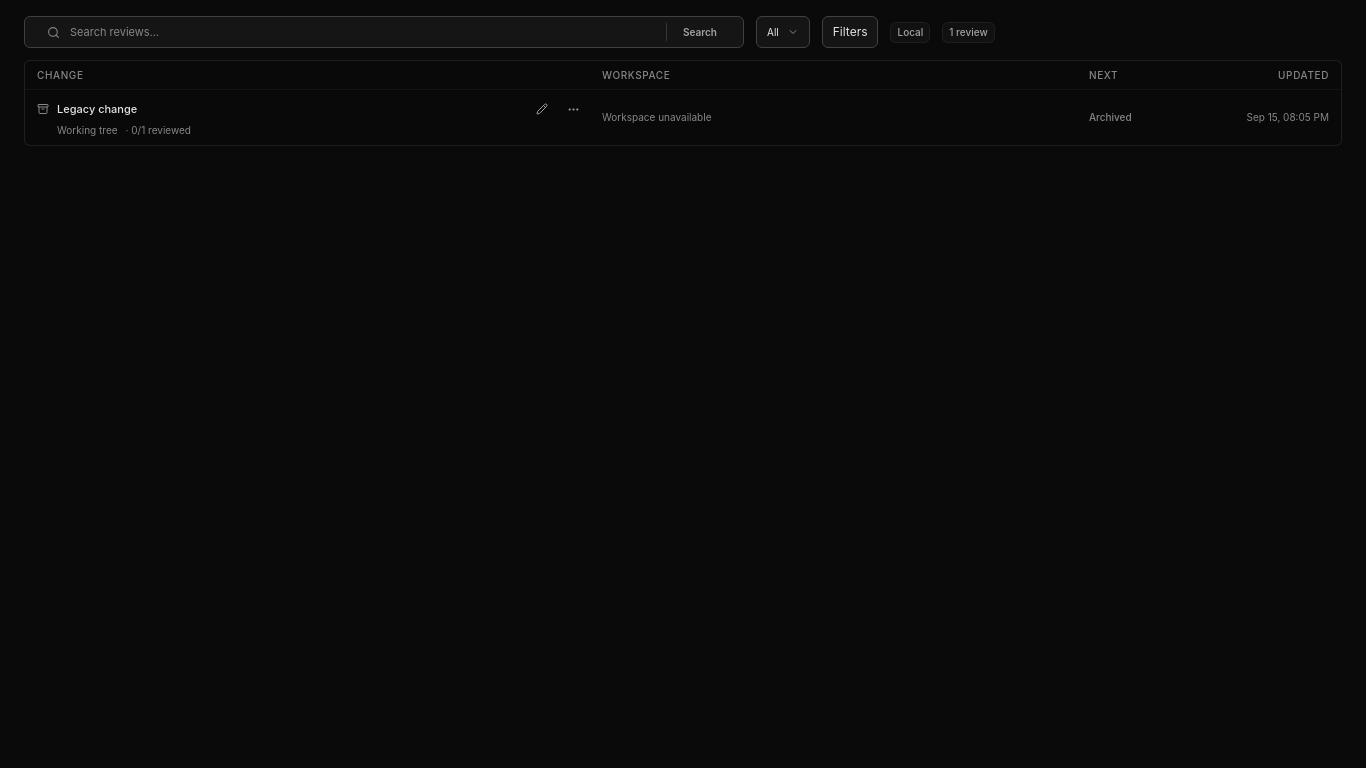
Test: ReviewDirectory › keeps an archived review and allows retry when deletion fails
The image size is (1366, 768).
Click the button named "More actions for Legacy change" at (574, 109), box [562, 97, 586, 121]
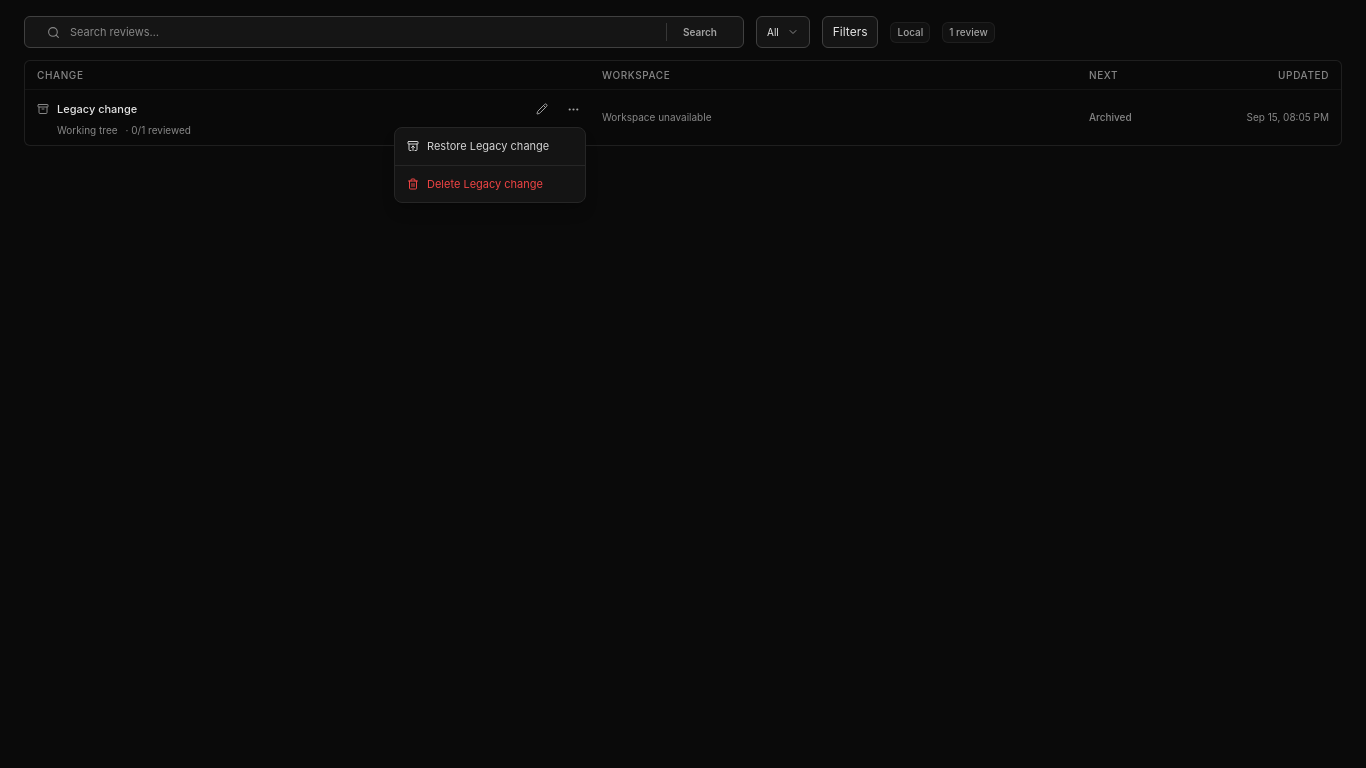
Click the menu item "Delete Legacy change" at (475, 184), box [407, 176, 543, 190]
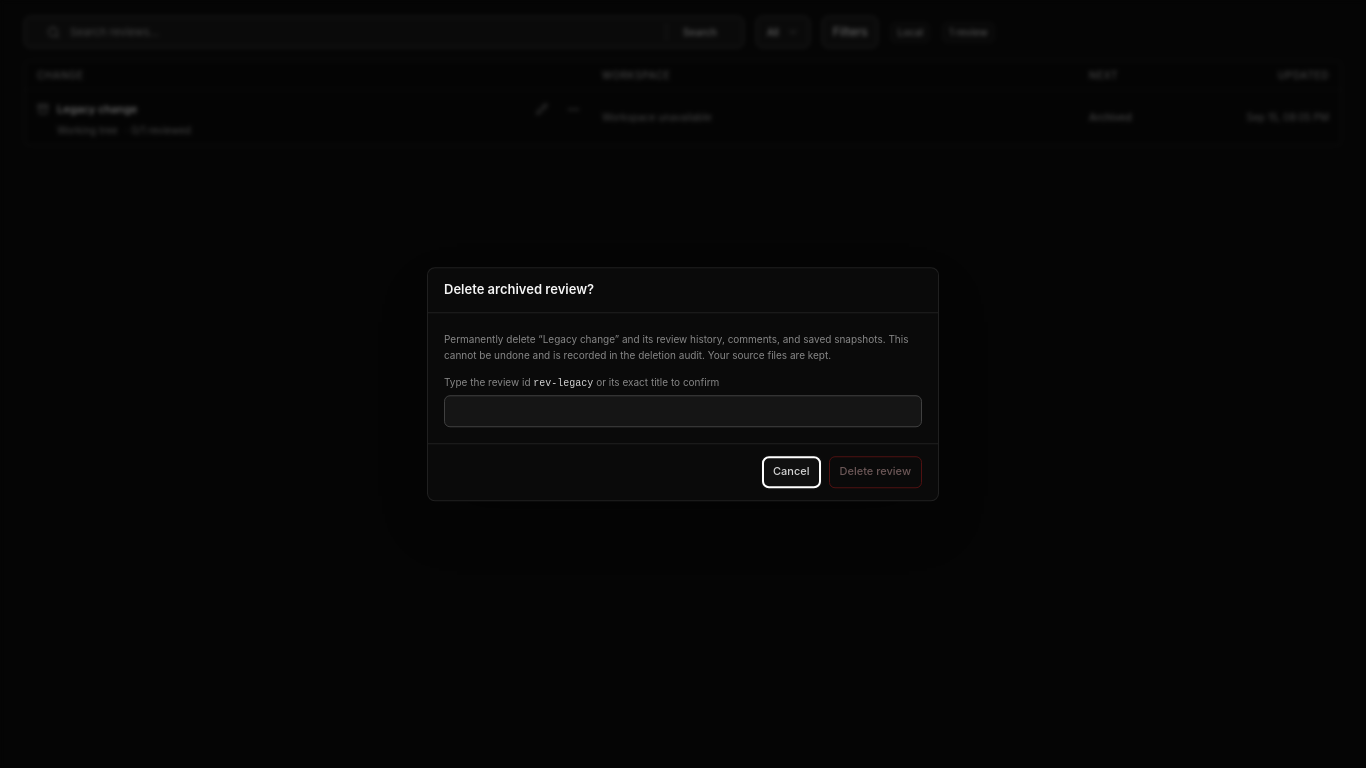
Type "rev-legacy" into the field named "Confirm the review to delete" at (683, 411), box [444, 395, 922, 427]
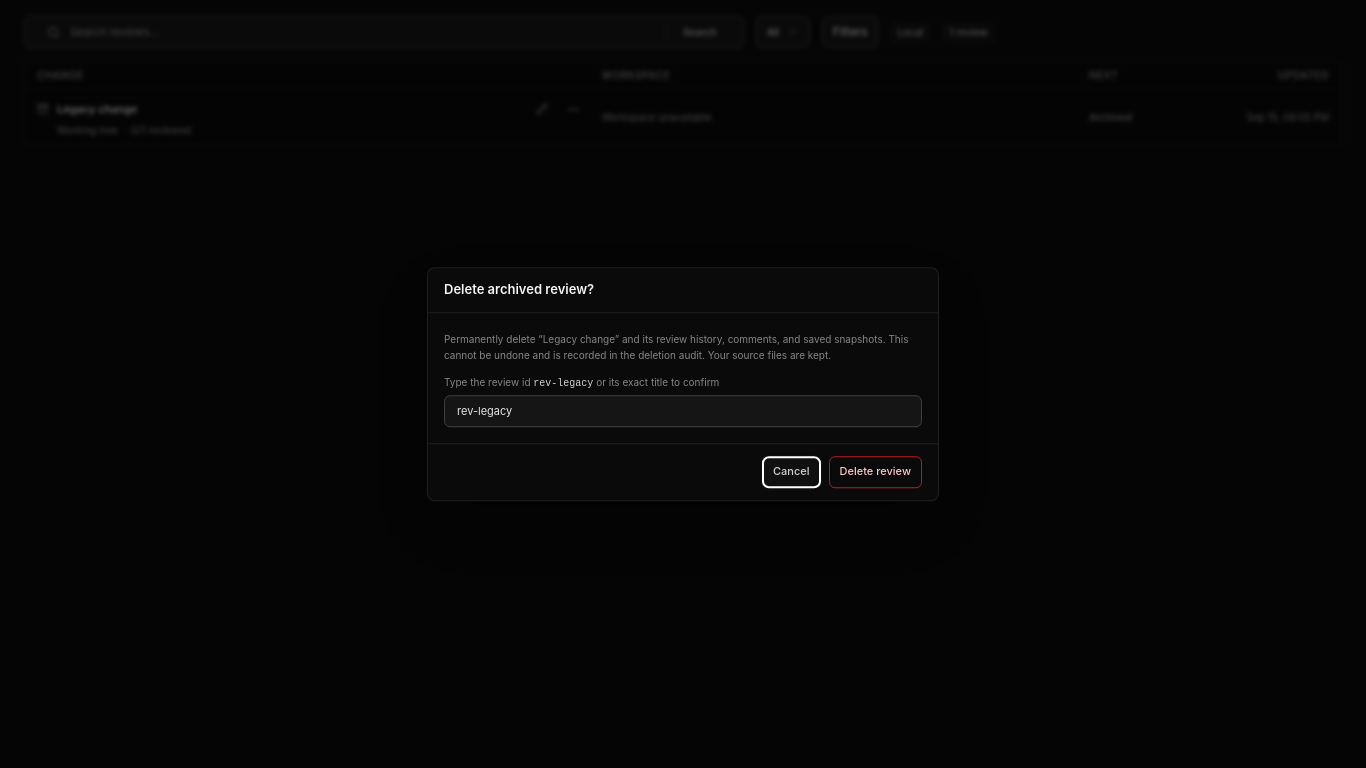
Click the button "Delete review" at (875, 472), box [828, 456, 922, 488]
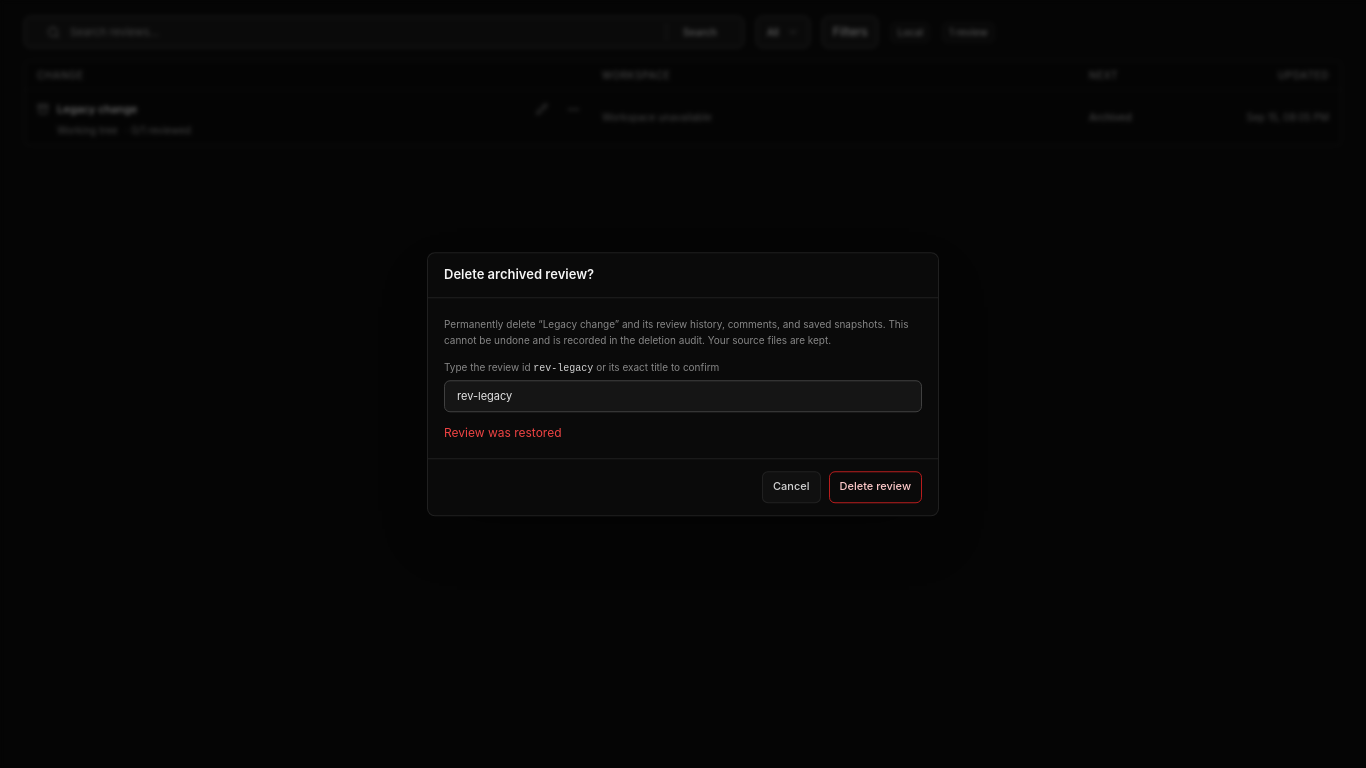
Expected: the link named "Open Legacy change" is shown, [25, 90, 1341, 145]
Now the message reads "Review was restored", box [444, 425, 562, 440]
Click the button "Delete review" at (875, 487), box [828, 471, 922, 503]
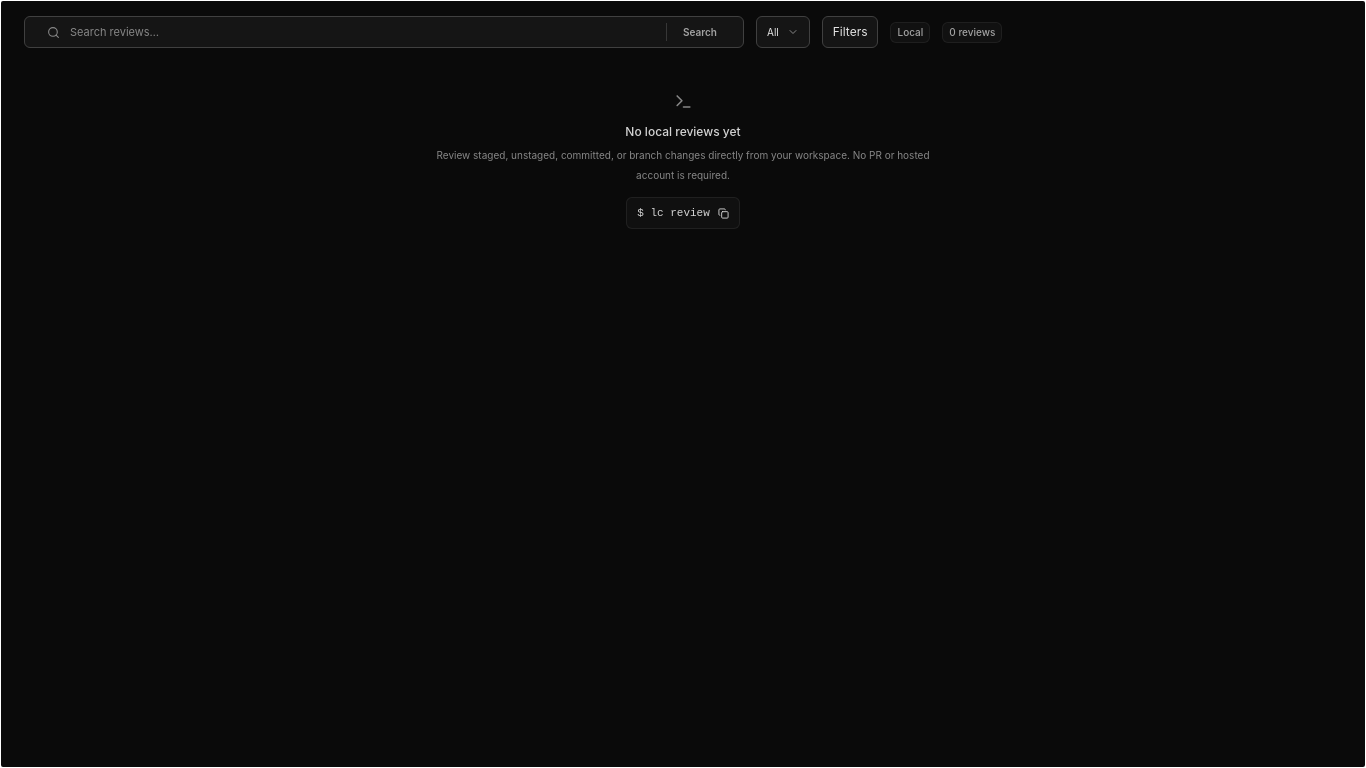
Now the dialog is gone
